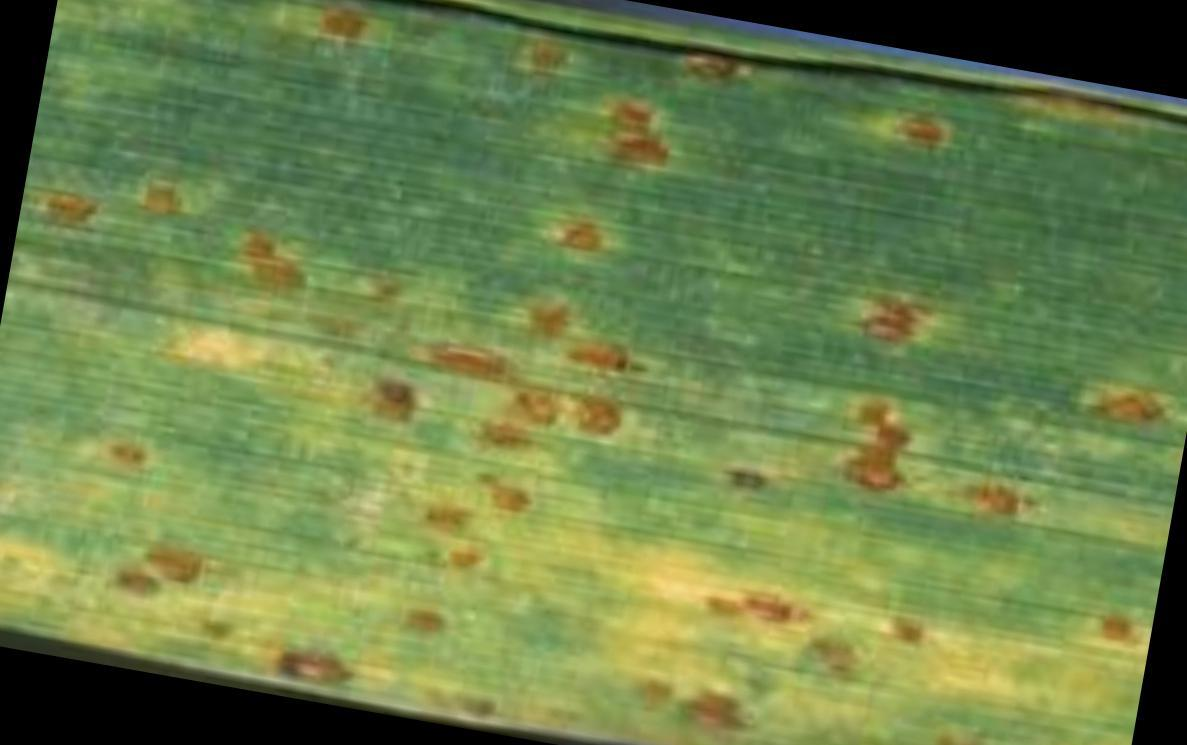Wheat: (225, 224, 688, 558), (249, 2, 929, 202), (791, 262, 1168, 554), (581, 574, 1136, 744)
